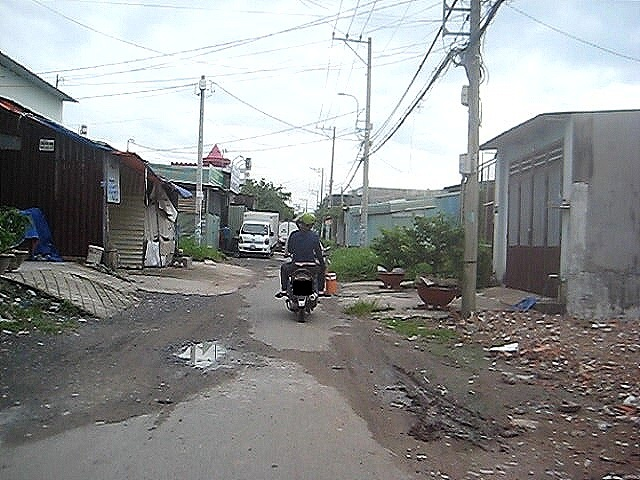hole: (163, 334, 239, 374)
